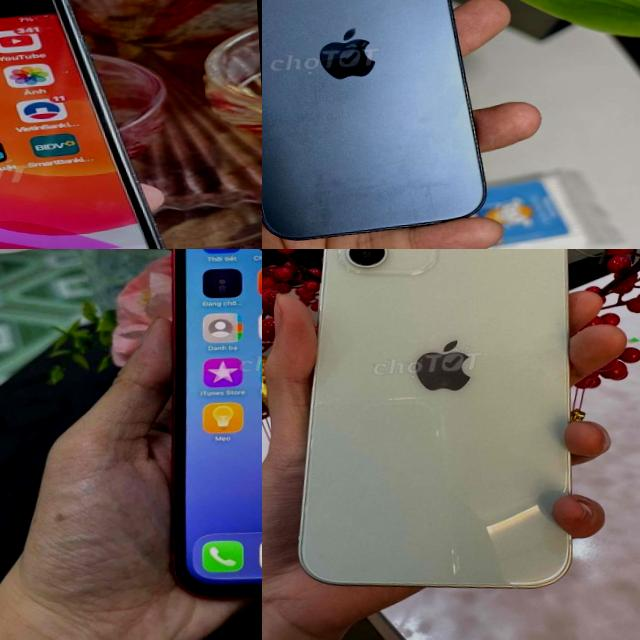gen_11: (142, 249, 262, 609)
gen_12_13: (274, 249, 591, 604)
gen_15: (262, 0, 497, 249)
gen_7_8: (0, 0, 163, 249)
